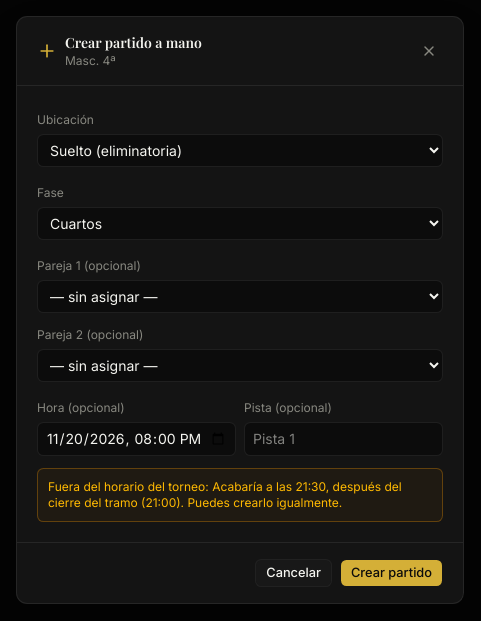
Test: MatchCreateDialog — fuera de los tramos y mensajes del back › un cuarto de 90 min a las 20:00 acabaría después del cierre; a las 19:00, sin aviso
The image size is (481, 621).
Expected: the message shows "Acabaría a las 21:30, después del cierre del tramo (21:00).", [48, 479, 402, 510]
Replace the text in the field labelled "Hora (opcional)" with "2026-11-20T19:00" at [136, 439], box [37, 422, 236, 456]
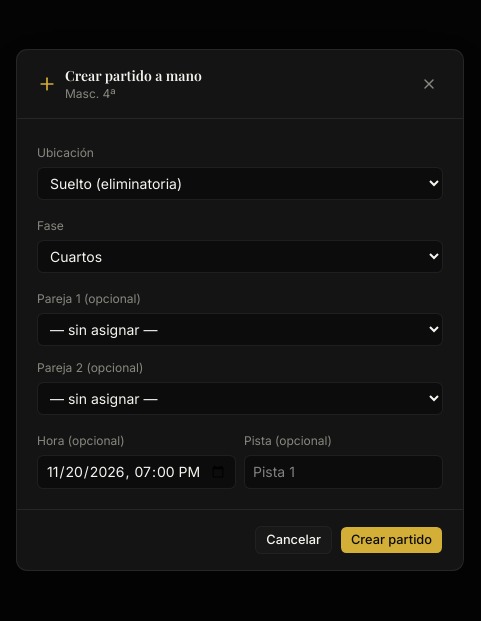
Result: the message is gone
